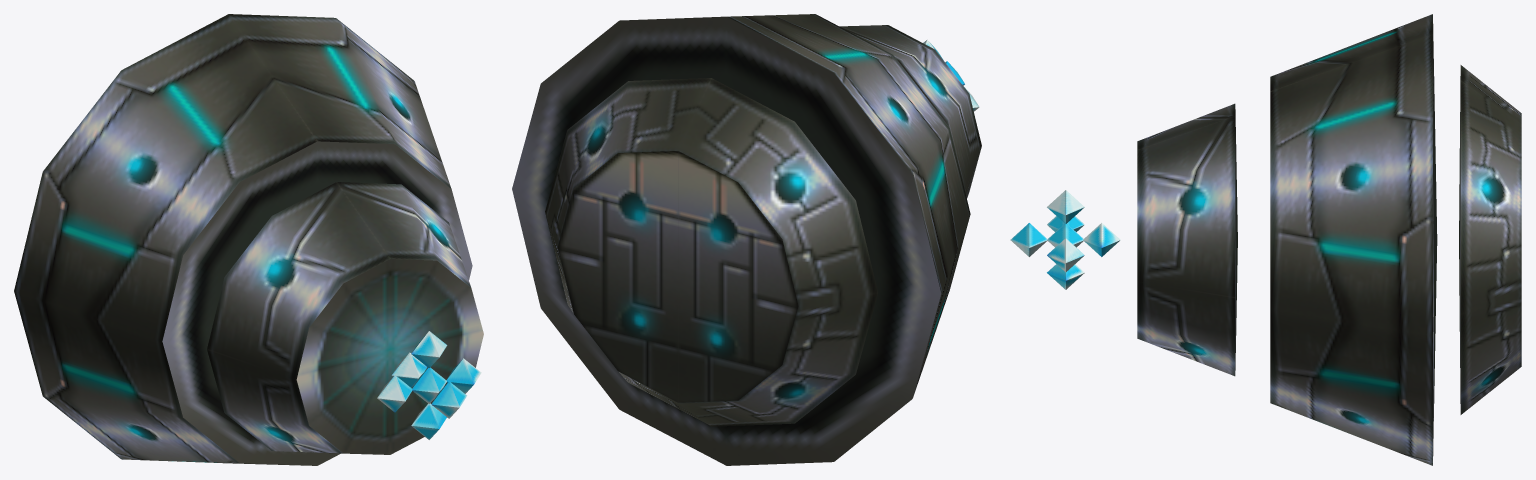
File: enemy09.FBX
3 views of the same model, side by side, from view 1: azimuth 30°, elevation 25°; view 2: azimuth 150°, elevation 25°; view 3: azimuth 270°, elevation 25° (orthographic). The views are drawn at different scales.
Visible parts, largest first — view 1: enemy09_b, enemy09_c, enemy09_d; view 2: enemy09_a, enemy09_b, enemy09_c; view 3: enemy09_b, enemy09_c, enemy09_a, enemy09_d.
Part boxes in pixels (x1,y1,x2,y2): enemy09_b: [14, 14, 472, 465]; enemy09_c: [207, 182, 483, 454]; enemy09_d: [377, 331, 481, 439]; enemy09_a: [545, 78, 877, 426]; enemy09_b: [512, 14, 970, 465]; enemy09_c: [839, 25, 981, 198]; enemy09_b: [1270, 14, 1437, 465]; enemy09_c: [1137, 103, 1237, 376]; enemy09_a: [1459, 65, 1521, 414]; enemy09_d: [1010, 190, 1120, 289].
Size of the model in its own units: 834 by 834 by 940.
